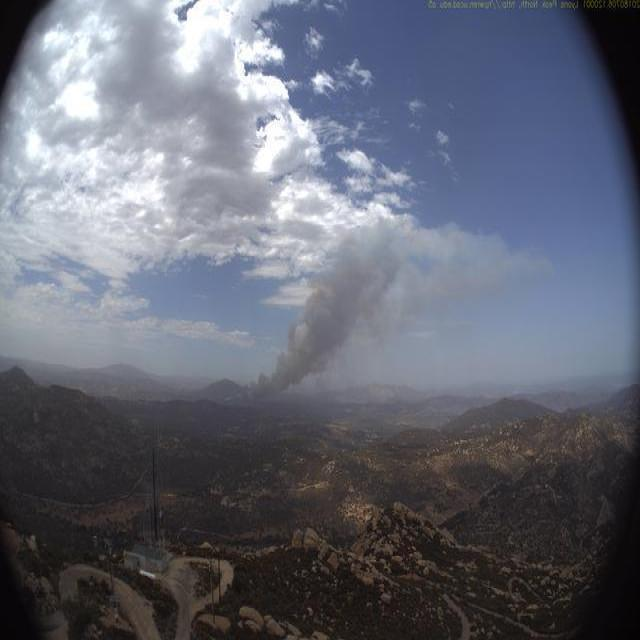Smoke: (228, 208, 540, 407)
